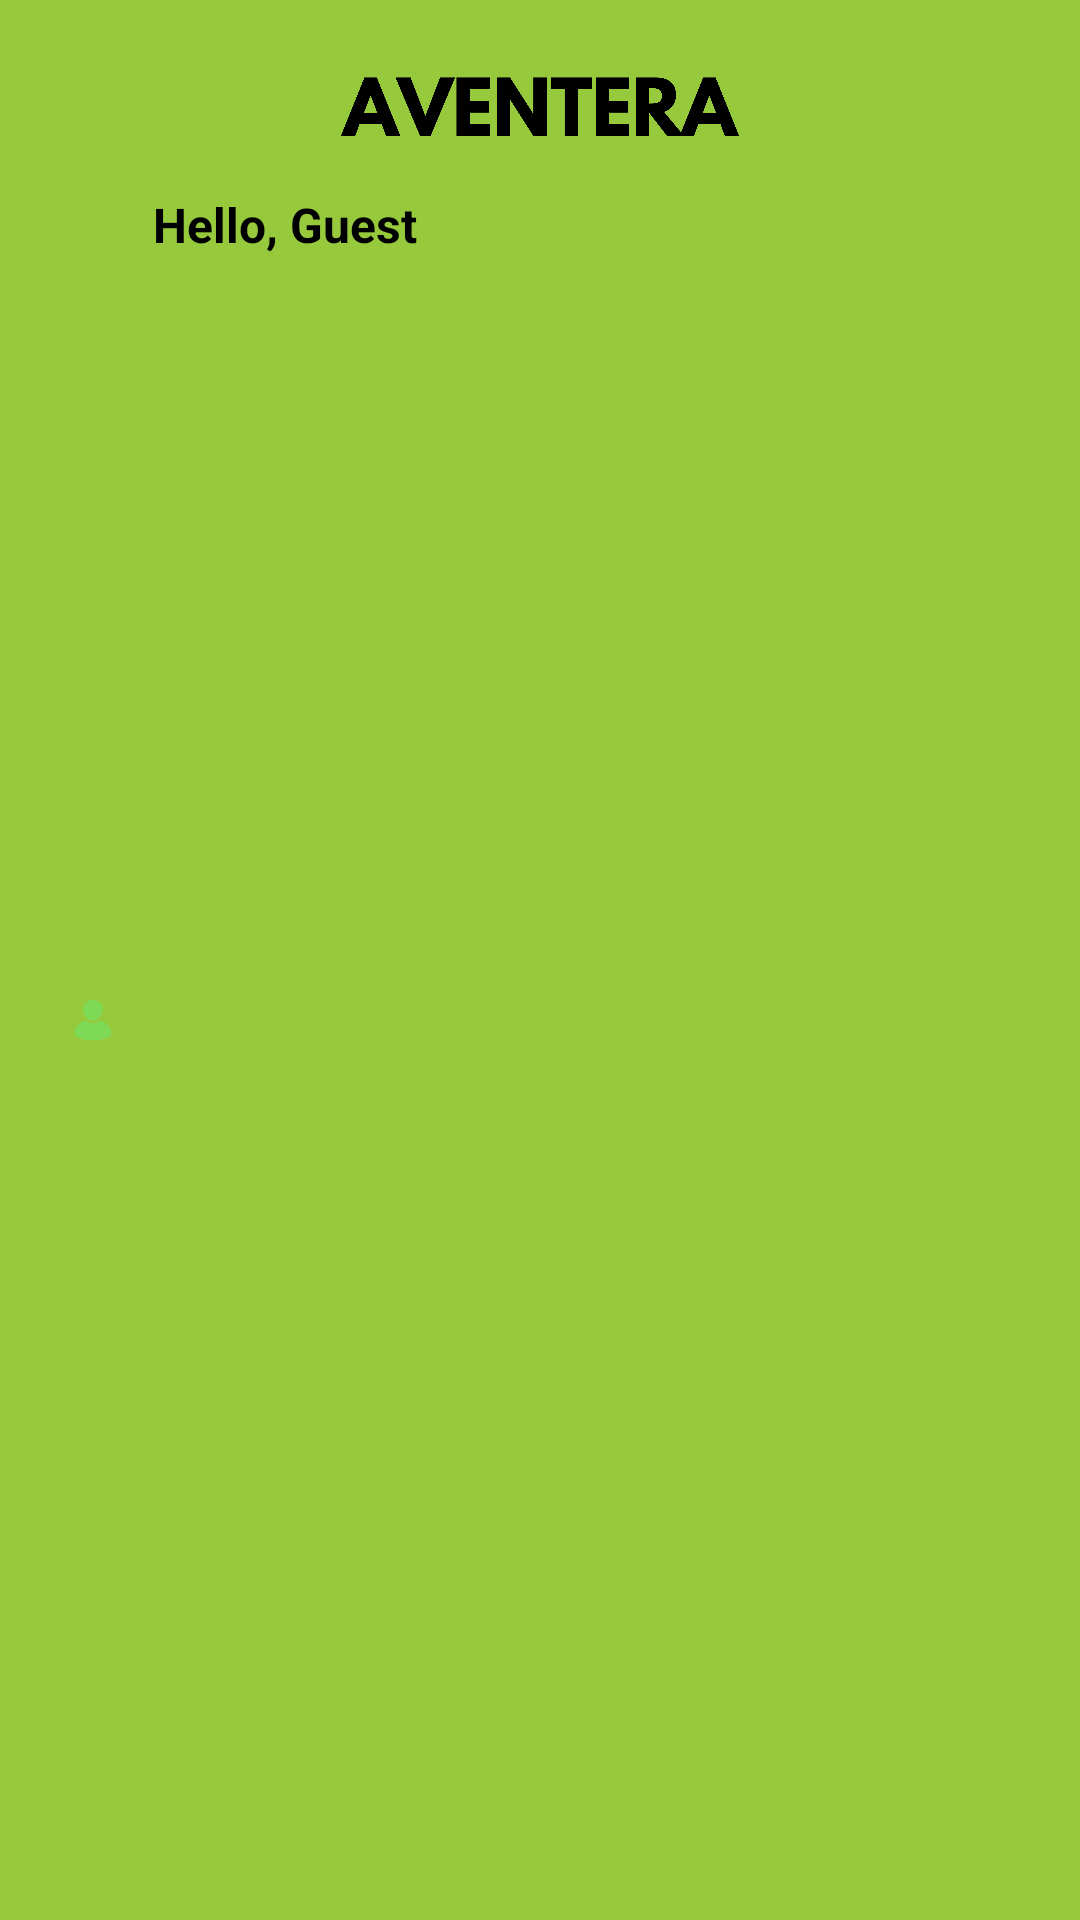

Named icons in this screenshot (1080 × 1920) and their bounding boxes, box(x1, y1, x2, y2):
user: box(75, 1000, 111, 1040)
